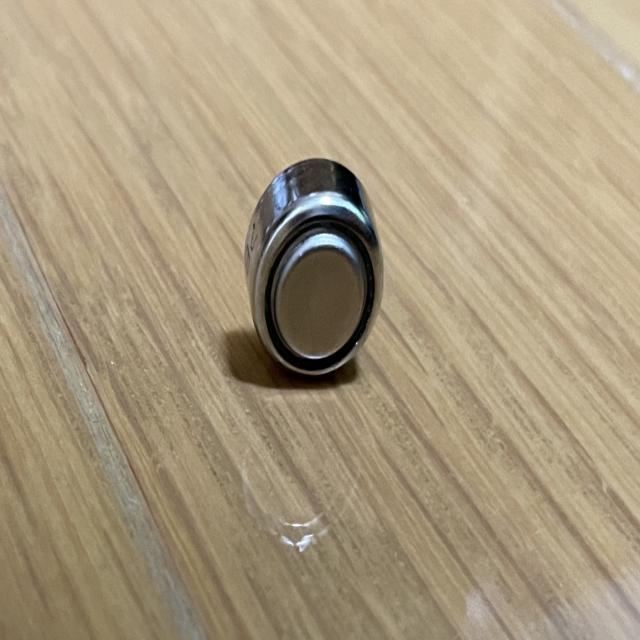COIN: (242, 158, 386, 381)
